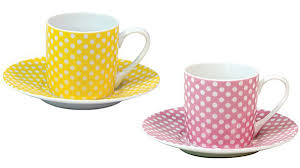cup: (39, 11, 155, 100), (181, 61, 293, 149)
